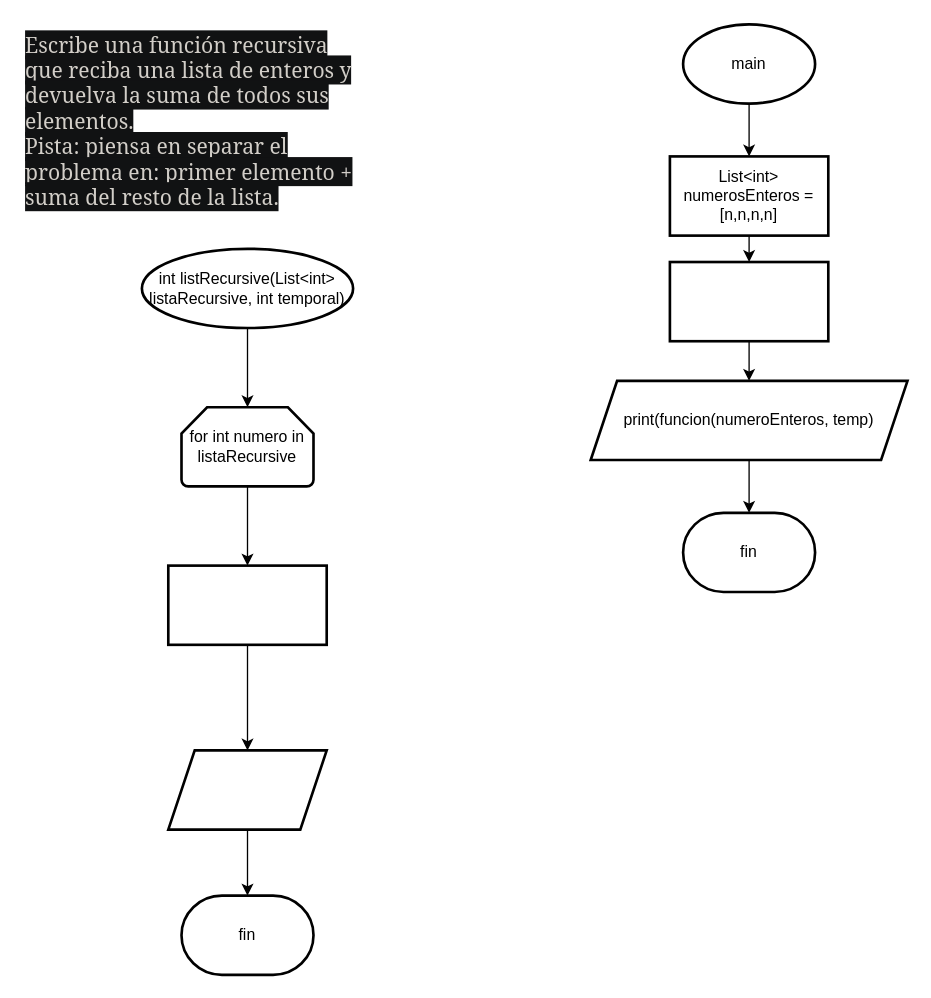
The diagram is 931 pixels wide and 998 high, and some of its shapes have lost their labels. Each missing label, with the centre of its shape:
"int temp = 0" goes at point 748,301.
"return temp" goes at point 246,789.
"temp += numero" goes at point 246,604.
